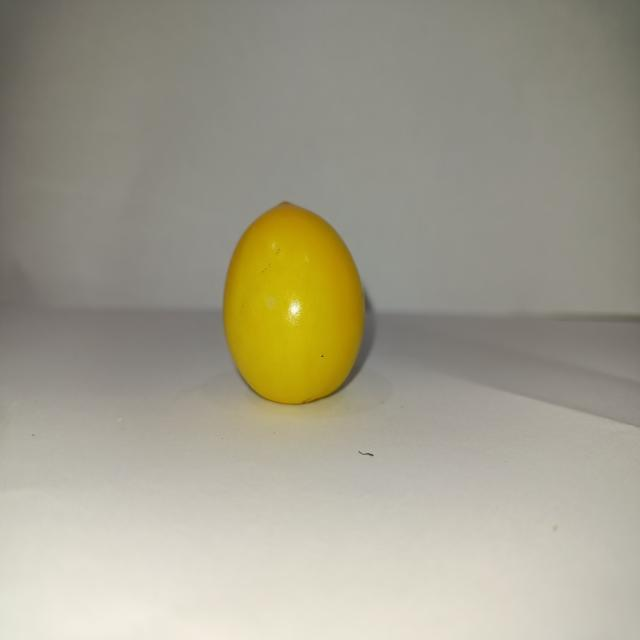Red: (221, 199, 366, 405)
